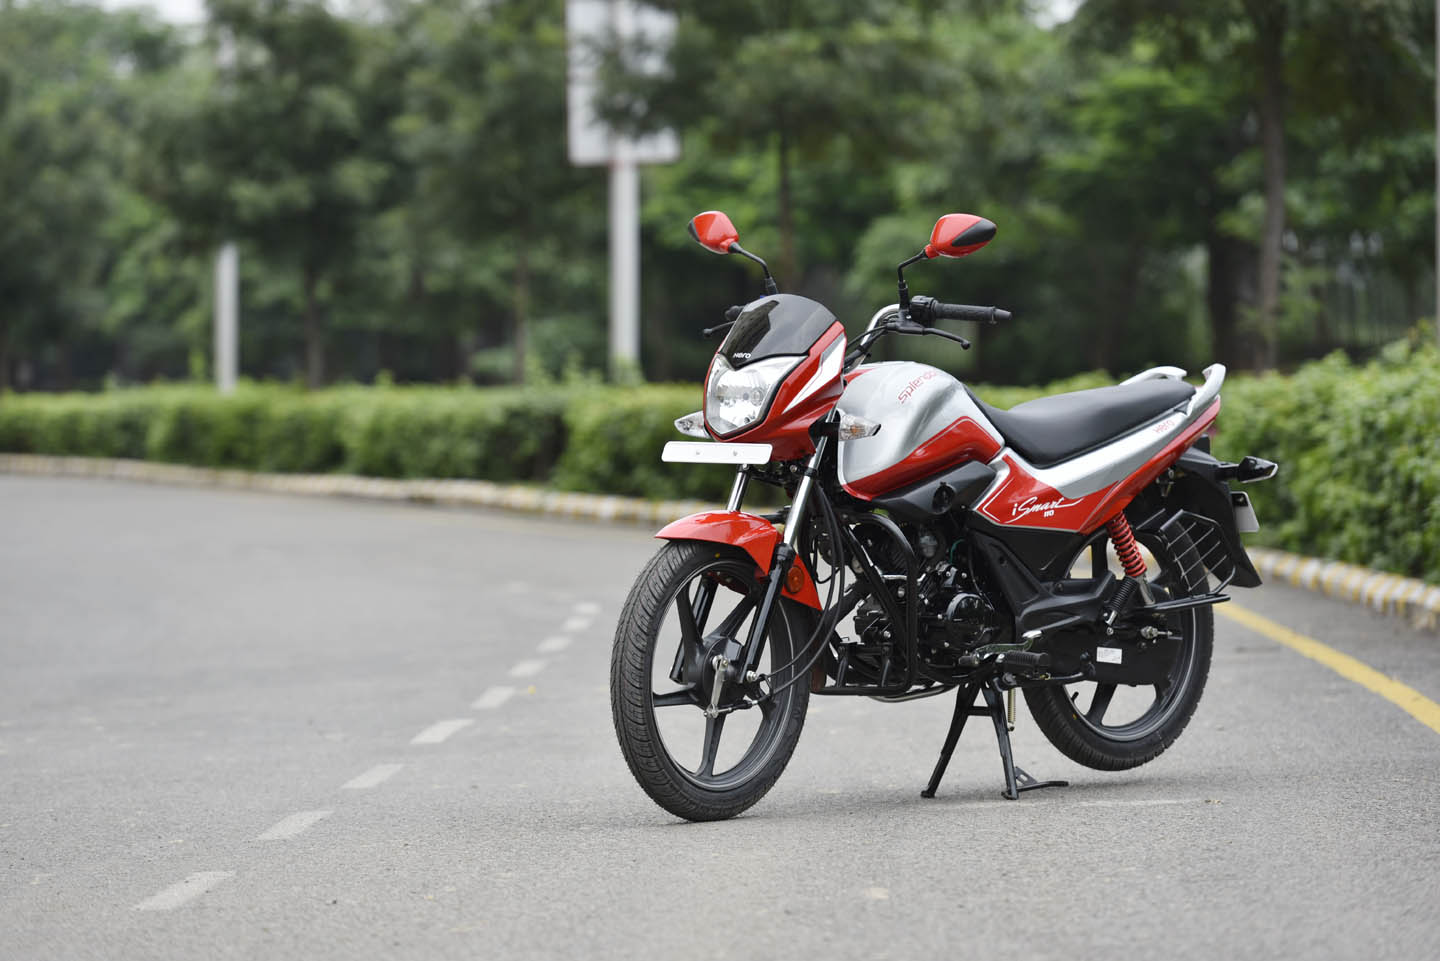motorbike: (605, 243, 1260, 833)
